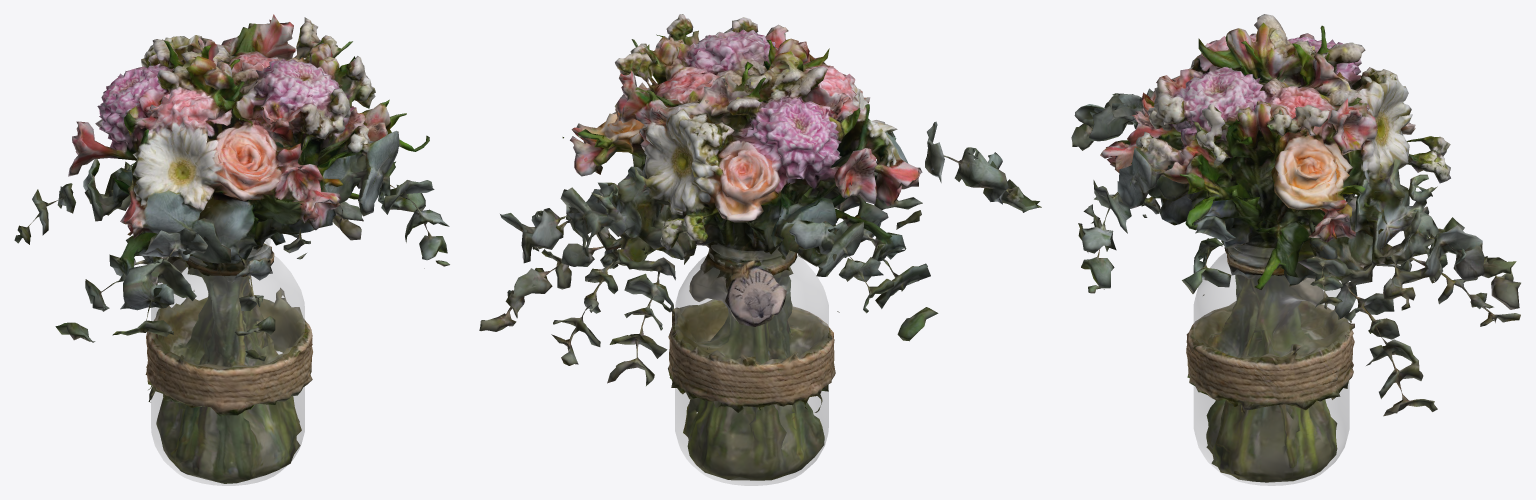
The model's file is arreglo2.glb.
3 views of the same model, side by side, from view 1: azimuth 30°, elevation 25°; view 2: azimuth 150°, elevation 25°; view 3: azimuth 270°, elevation 25° (orthographic).
Visible parts, largest first — view 1: g0, Circle; view 2: g0, Circle; view 3: g0, Circle.
Part boxes in pixels (x1,y1,x2,y2): g0: [14, 14, 449, 483]; Circle: [151, 238, 304, 485]; g0: [479, 14, 1041, 480]; Circle: [675, 243, 828, 485]; g0: [1071, 14, 1520, 482]; Circle: [1194, 244, 1349, 485].
Size of the model in its own units: 1.67 by 1.7 by 1.62.
Materials: 2 (1 with a texture image).
